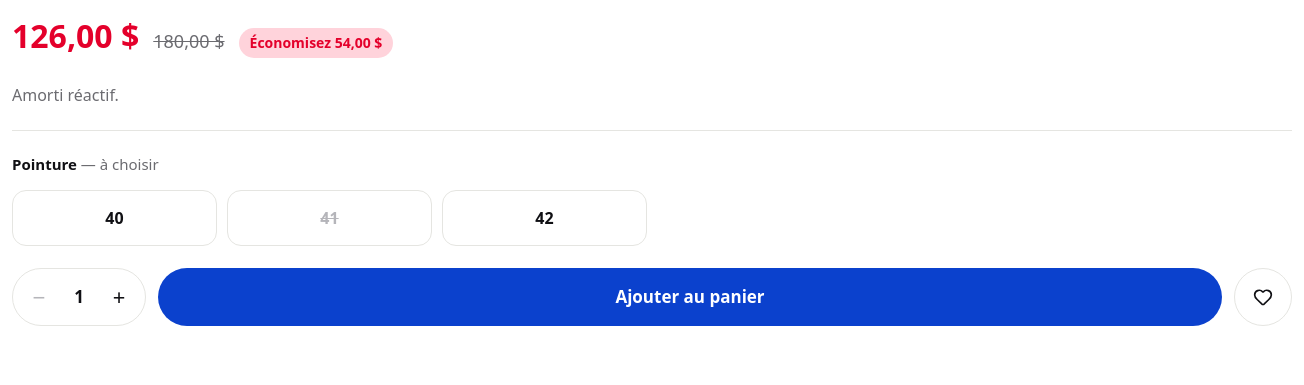
Test: BlocAchat — pointure et quantité › annonce un stock bas pour la pointure choisie
The width and height of the screenshot is (1304, 385).
Click the button "42". click: [544, 218]
box: [442,190,647,246]
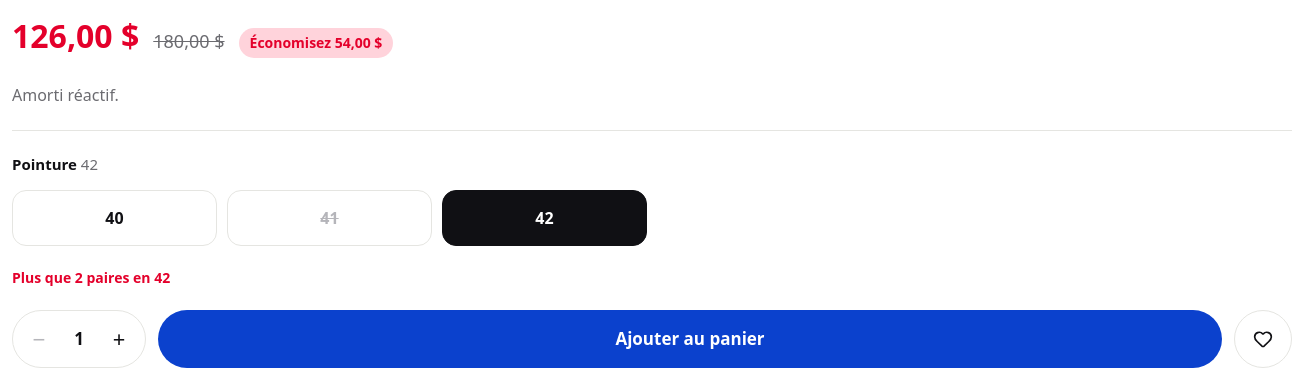
Now the text with test id "stock-bas" reads "Plus que 2 paires en 42", box [12,268,170,286]
Click the button "40". click: [114, 218]
box: [12,190,217,246]
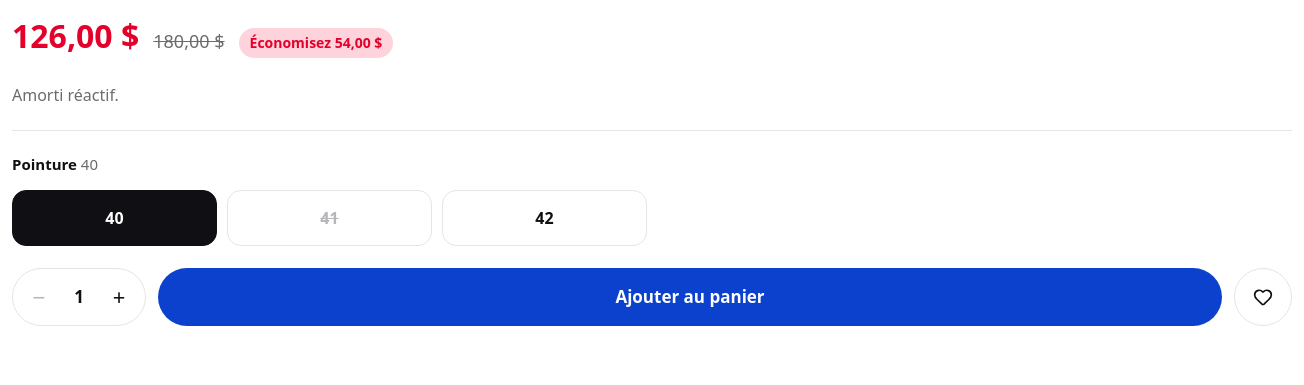
Now the text with test id "stock-bas" is gone
